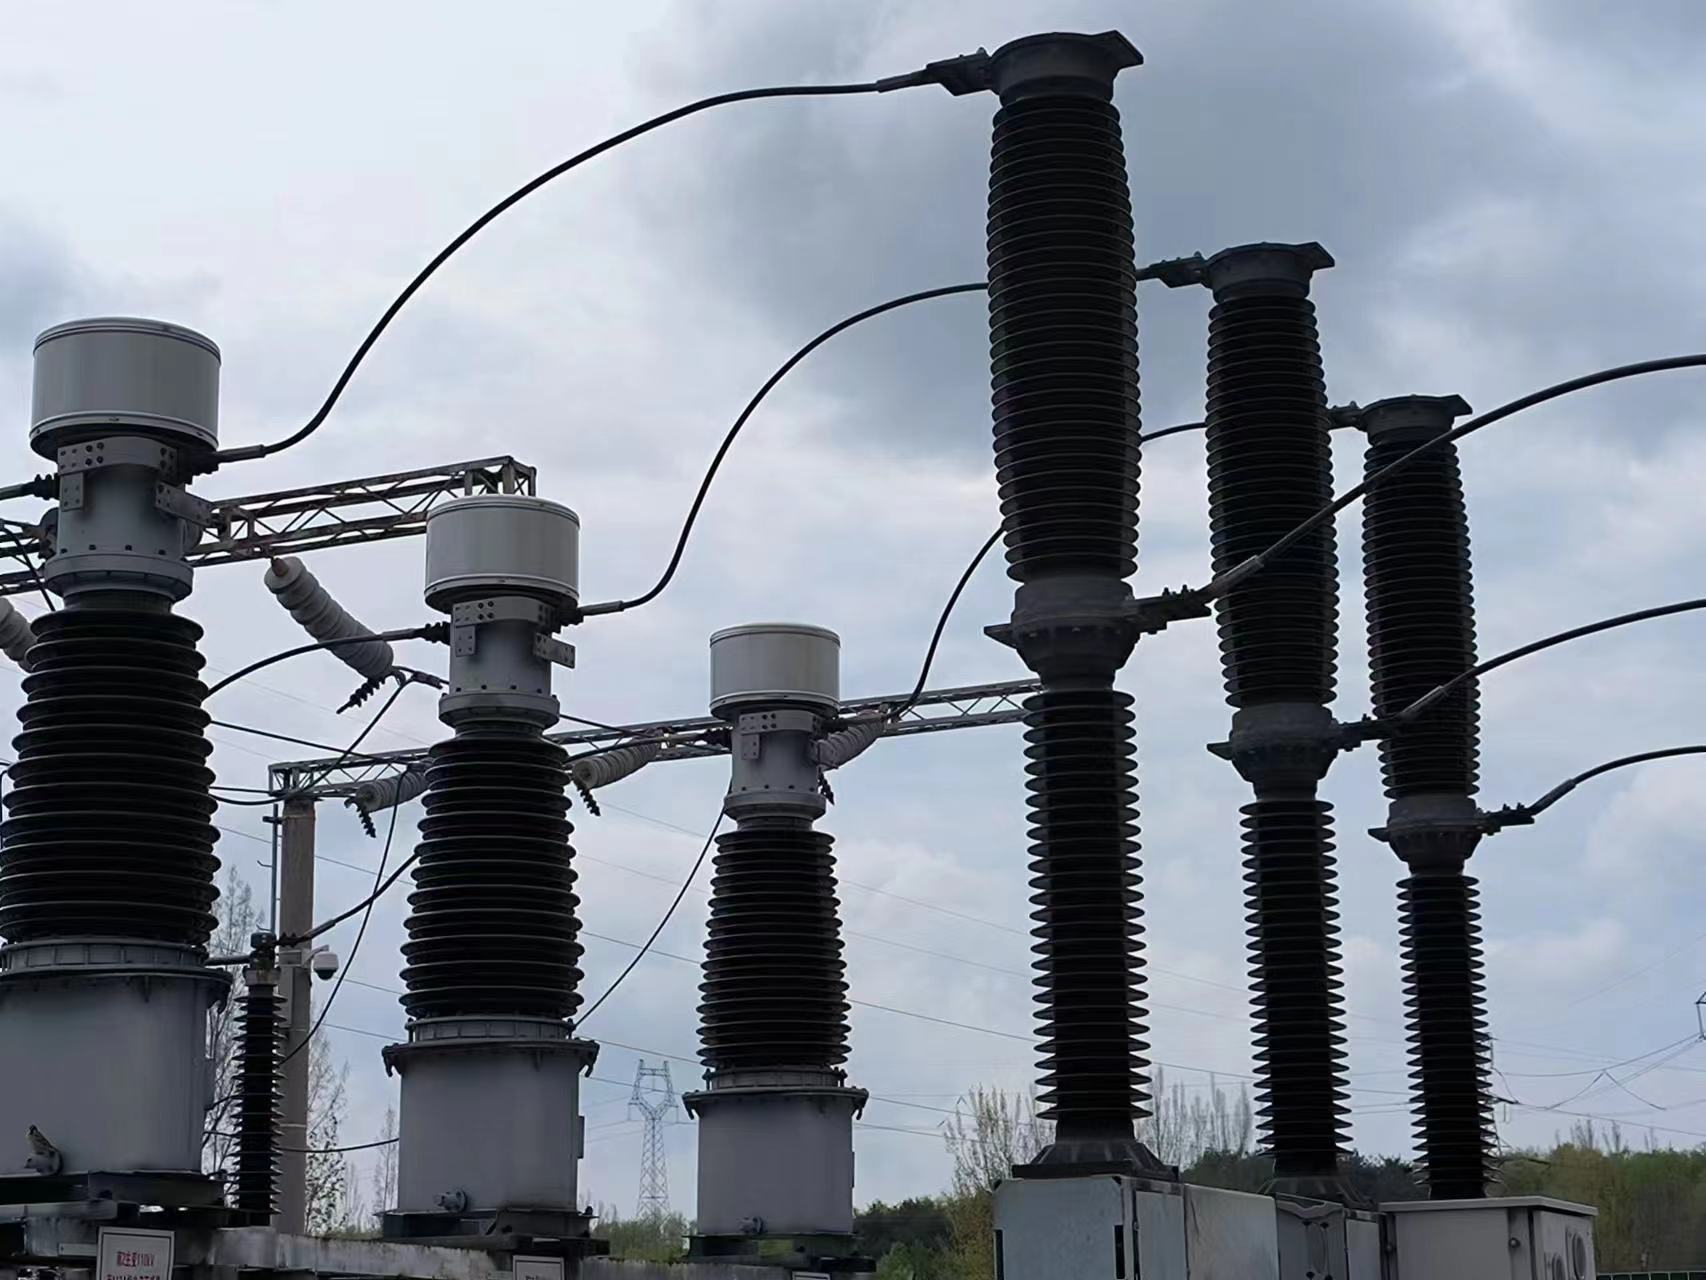Circuit-breaker: (929, 26, 1151, 1170), (1162, 227, 1344, 1202), (1334, 383, 1496, 1199)
Current transformer: (1, 319, 235, 1168), (383, 495, 604, 1214), (680, 623, 871, 1240)
